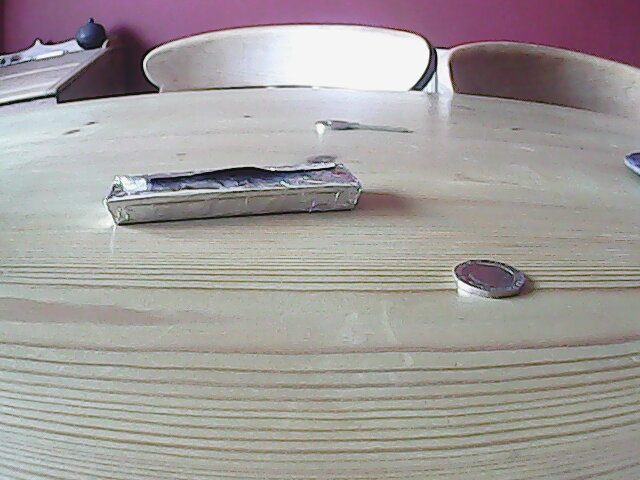Coin: (450, 253, 528, 298)
Foil: (104, 160, 371, 229)
Key: (312, 117, 410, 139)
